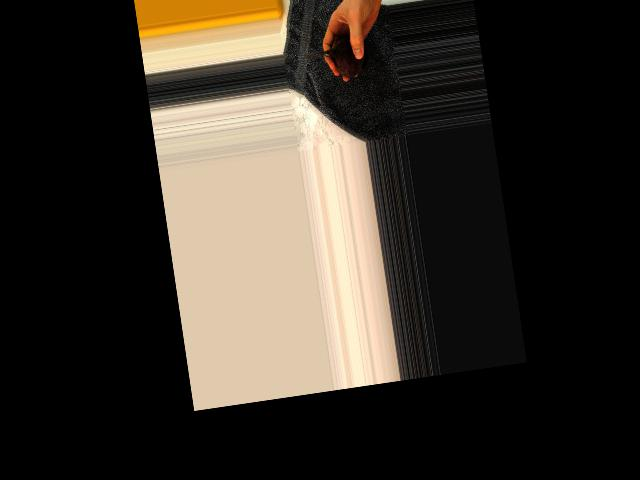beet: (303, 34, 370, 83)
